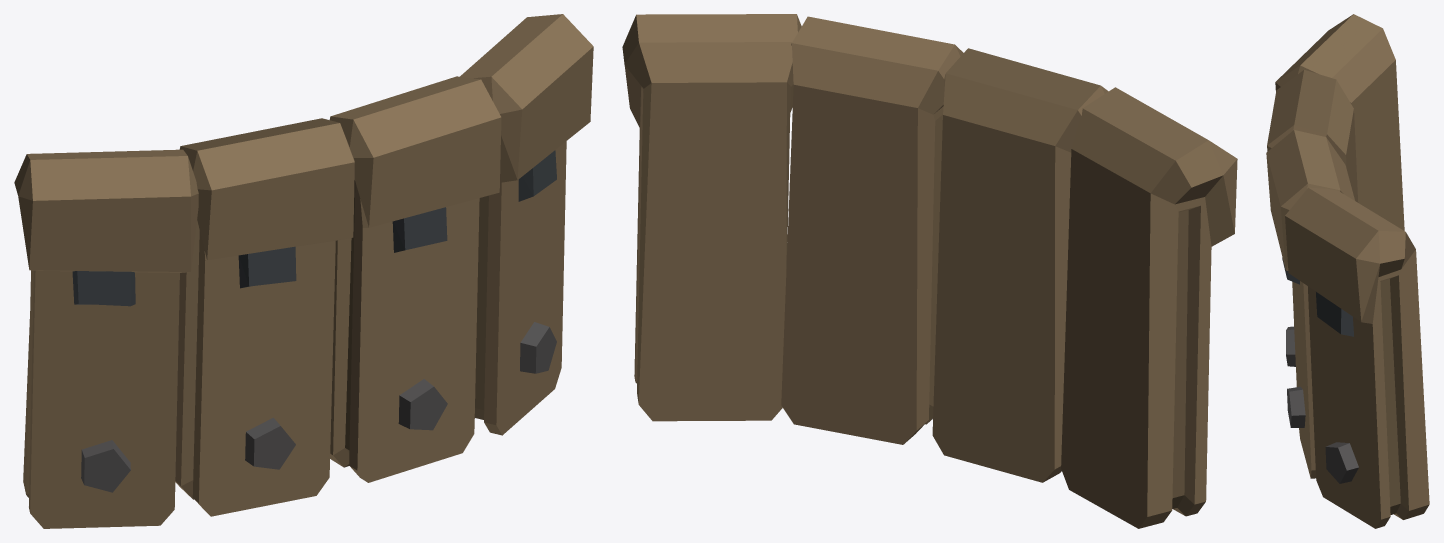
File: SM_Chr_Attach_Pouch_08.fbx
The picture shows the model from 3 angles, left to right: view 1: azimuth 30°, elevation 25°; view 2: azimuth 150°, elevation 25°; view 3: azimuth 270°, elevation 25°; orthographic projection. The views are drawn at different scales.
Parts seen in each view (by area): view 1: SM_Chr_Attach_Pouch_08; view 2: SM_Chr_Attach_Pouch_08; view 3: SM_Chr_Attach_Pouch_08.
Boxes of the visible parts, x1=… form: SM_Chr_Attach_Pouch_08: x1=14, y1=14, x2=593, y2=528; SM_Chr_Attach_Pouch_08: x1=622, y1=14, x2=1237, y2=528; SM_Chr_Attach_Pouch_08: x1=1266, y1=14, x2=1429, y2=528.
Size of the model in its own units: 37.47 by 23.2 by 11.26.
